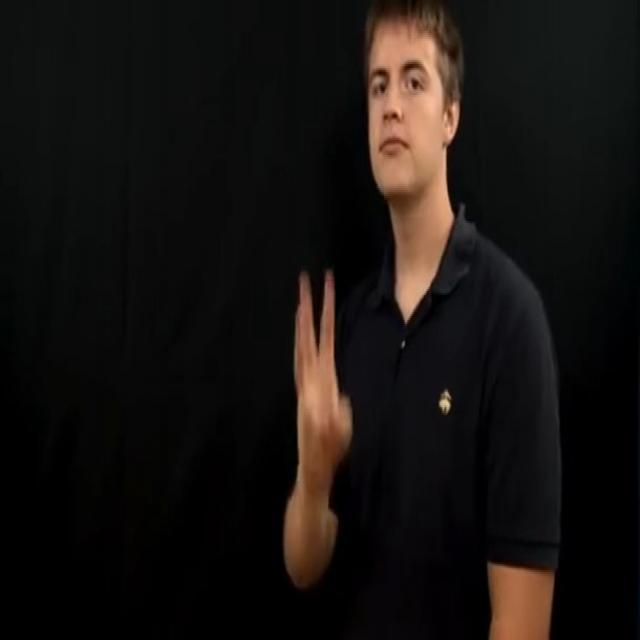water: (286, 262, 354, 486)
